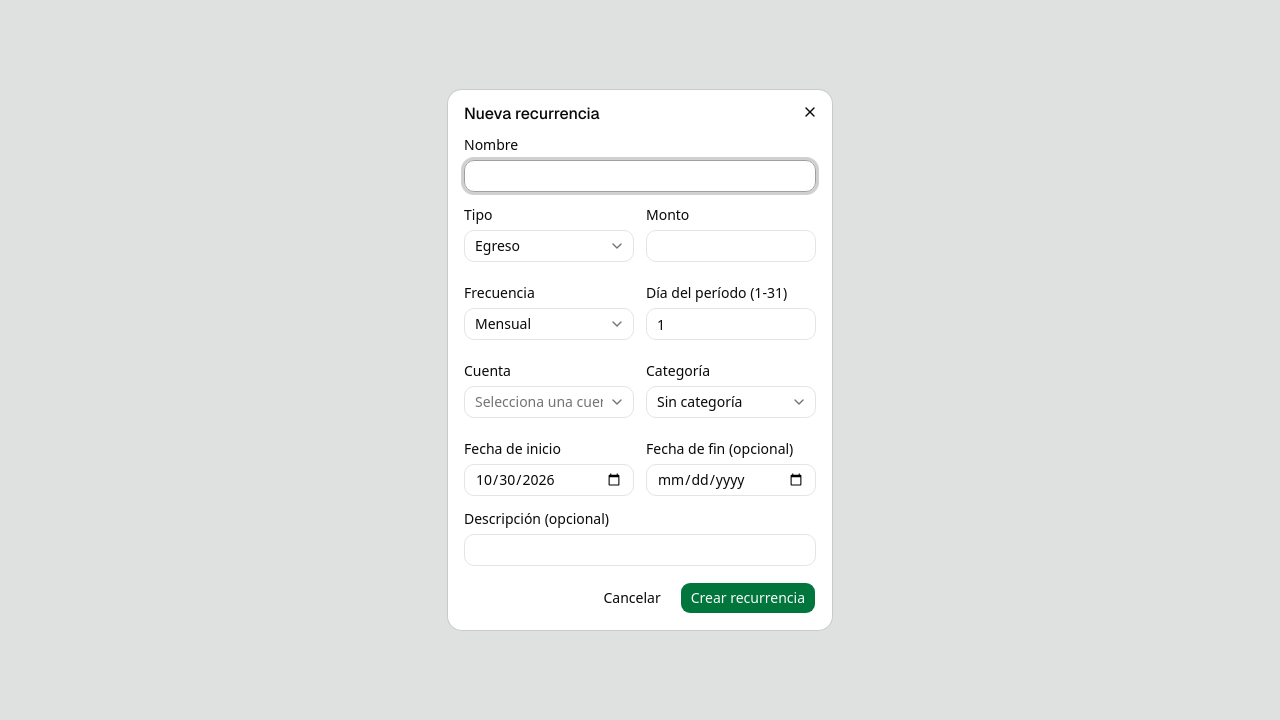
RecurrenceFormModal › valida los campos requeridos
Click the button "Crear recurrencia" at (748, 598), box [680,582,816,614]
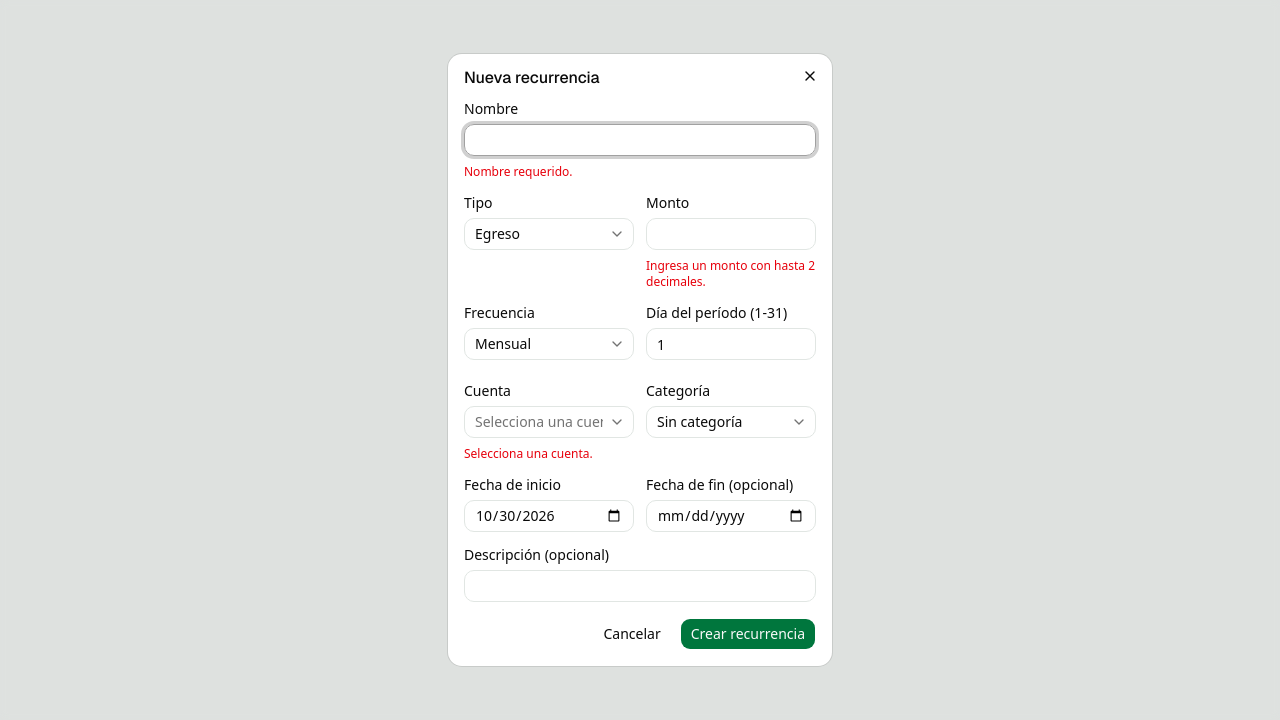
Result: the text "Nombre requerido." is shown at [464,163,572,180]
